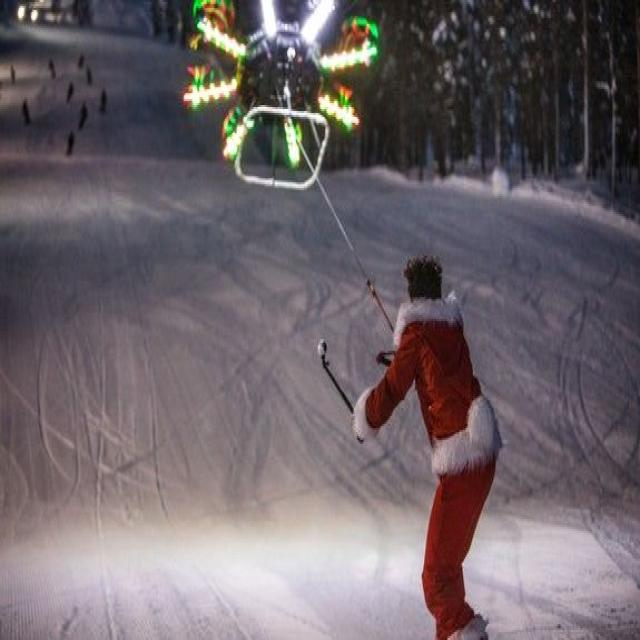drone: (174, 2, 376, 198)
